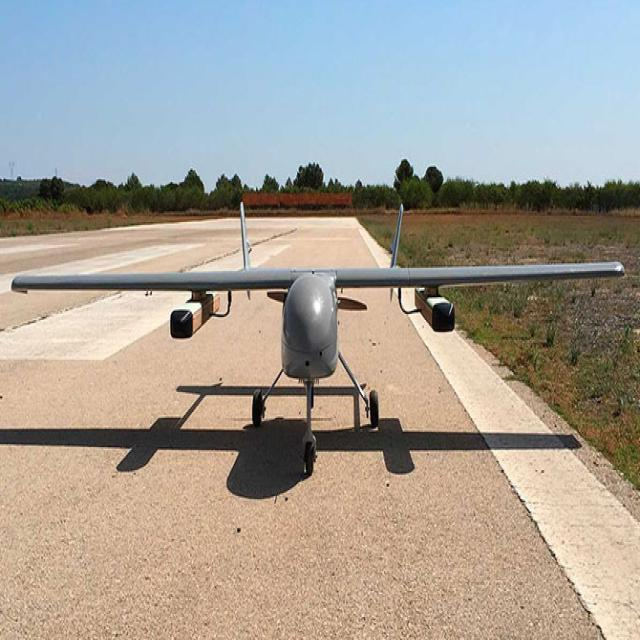iha: (11, 194, 630, 441)
